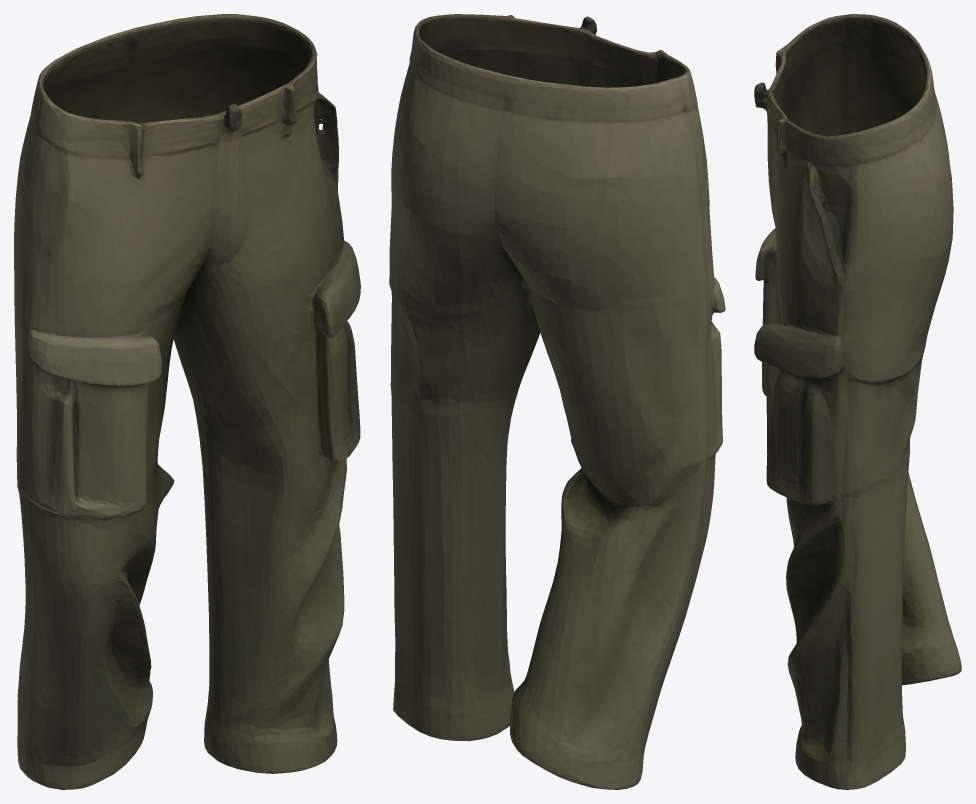
File: Cargo_Pants.glb
The picture shows the model from 3 angles, left to right: view 1: azimuth 30°, elevation 25°; view 2: azimuth 150°, elevation 25°; view 3: azimuth 270°, elevation 25°; orthographic projection. The views are drawn at different scales.
Visible parts, largest first — view 1: world; view 2: world; view 3: world.
Boxes of the visible parts, x1,y1,x2,y2 form: world: (14, 14, 360, 789); world: (389, 14, 725, 789); world: (754, 14, 961, 789).
Bounding box in the file's own units: 0.4858 × 0.9989 × 0.2887.
Materials: 1 (1 with a texture image).
